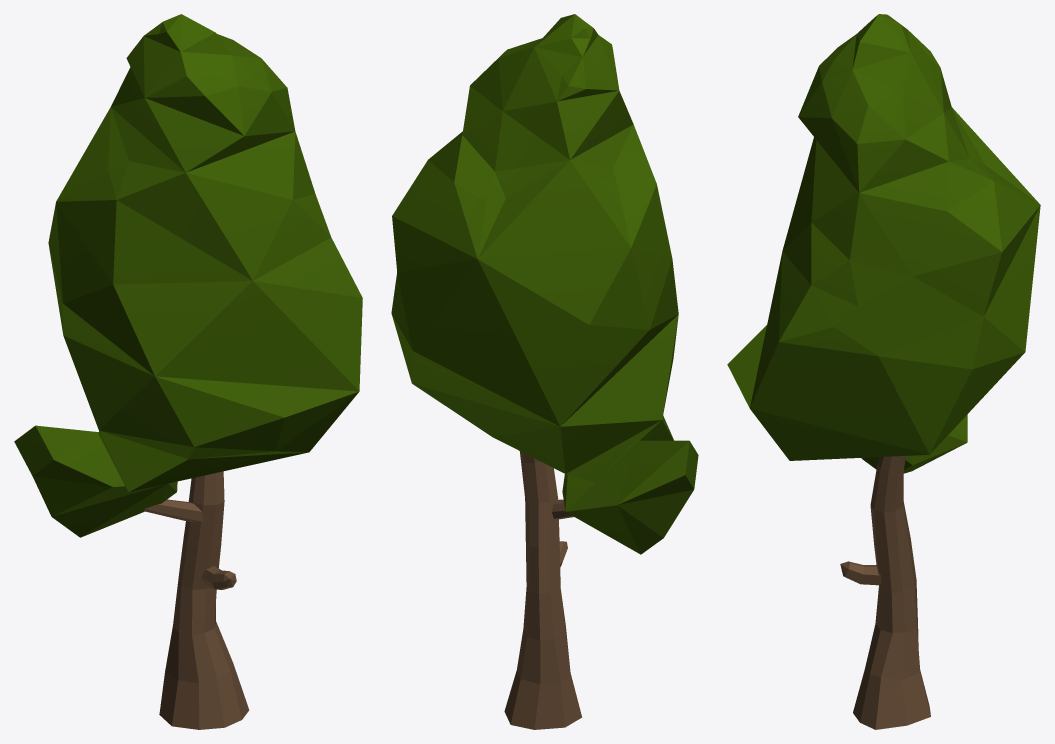
The model's file is source.glb.
The picture shows the model from 3 angles, left to right: view 1: azimuth 30°, elevation 25°; view 2: azimuth 150°, elevation 25°; view 3: azimuth 270°, elevation 25°; orthographic projection. The views are drawn at different scales.
Visible parts, largest first — view 1: coniferous_trees_20; view 2: coniferous_trees_20; view 3: coniferous_trees_20.
Part boxes in pixels (x1,y1,x2,y2): coniferous_trees_20: (14,14,362,729); coniferous_trees_20: (391,14,698,729); coniferous_trees_20: (727,14,1040,729).
Size of the model in its own units: 1.04 by 2.45 by 1.02.
